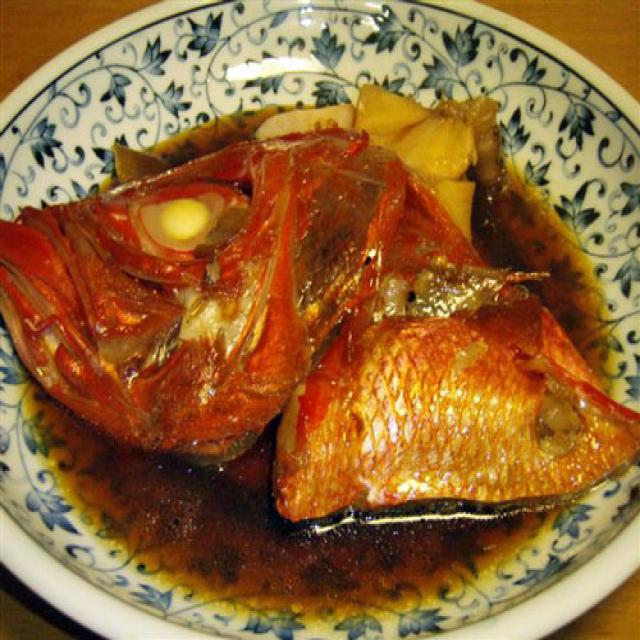熟制海鲜: (0, 69, 640, 590)
